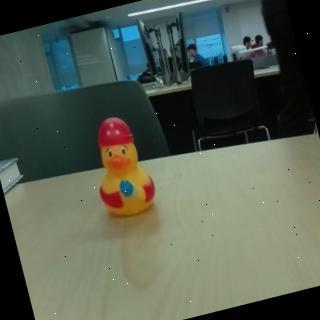duck_specialty: (81, 109, 163, 223)
